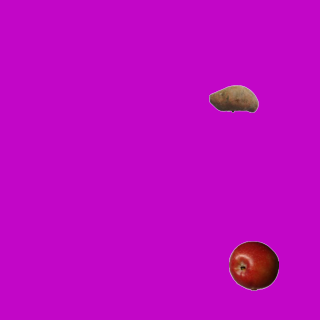Apple Braeburn: (228, 240, 278, 290)
Potato Sweet: (208, 73, 258, 123)
